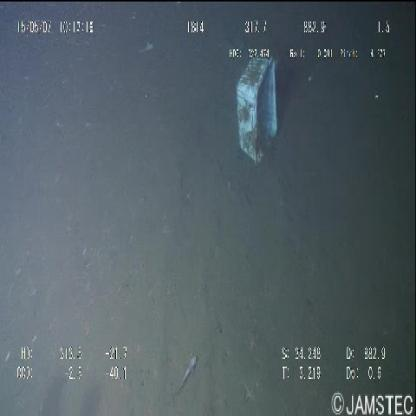Rác: (227, 37, 283, 176)
